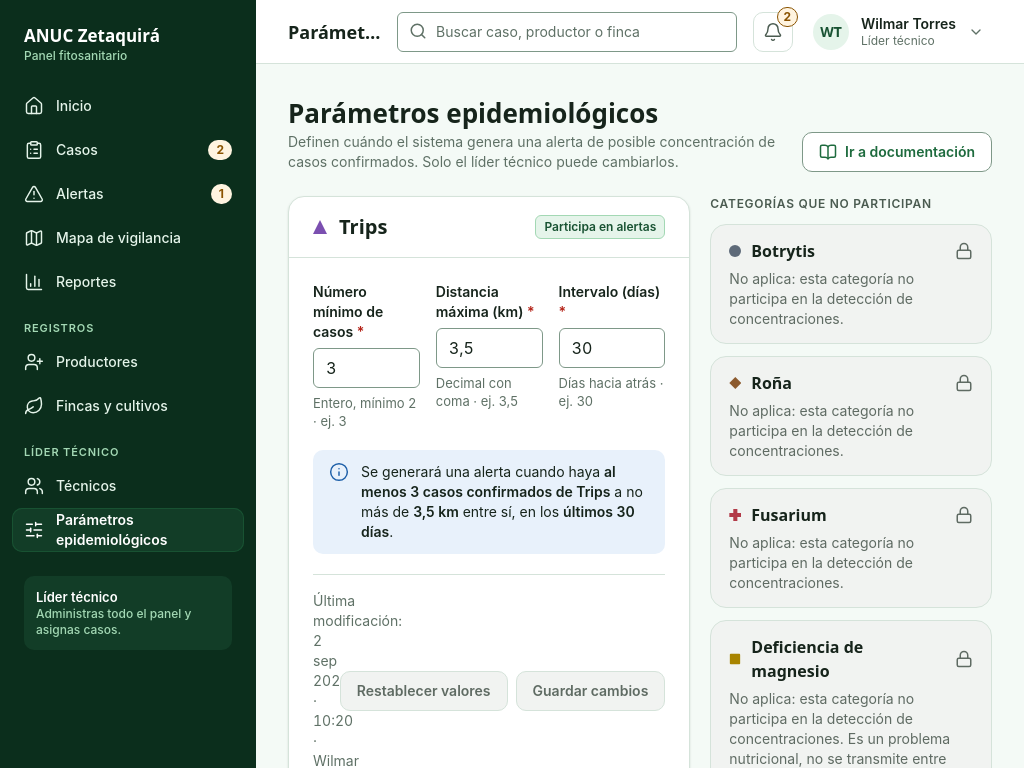
Scenario: Parámetros epidemiológicos › la frase cambia al escribir y restablecer vuelve a los valores vigentes
Replace the text in the field labelled "Distancia máxima (km) *" with "2,5" at coordinates (489, 348), box [436,328,543,368]
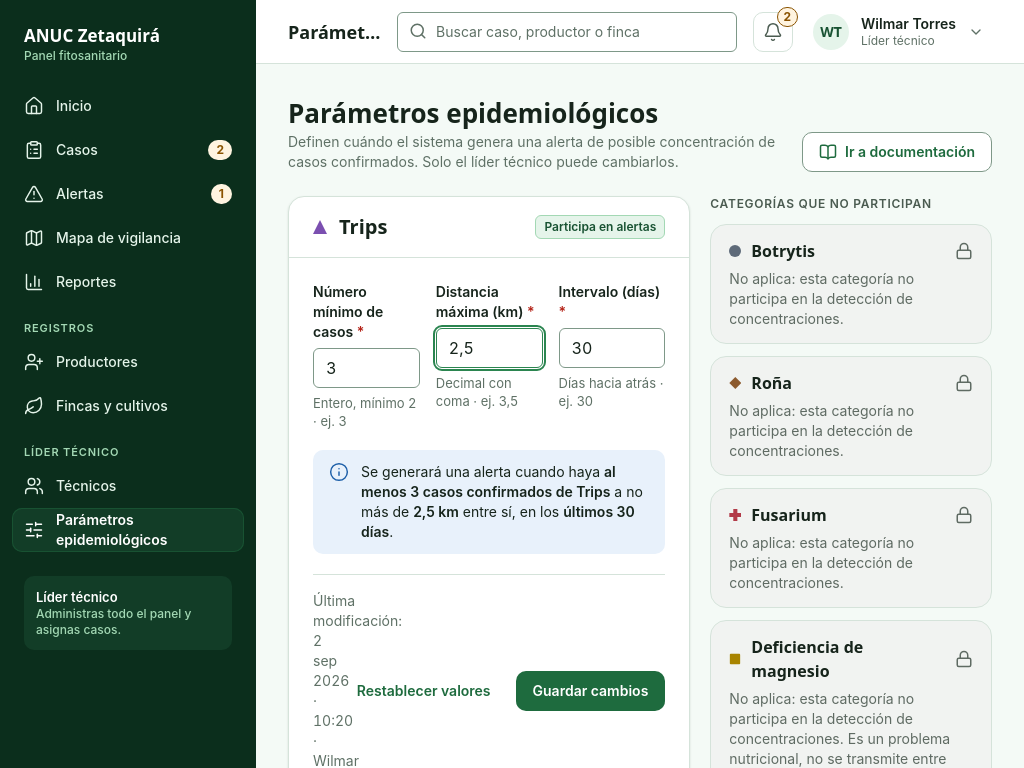
Clear the field labelled "Distancia máxima (km) *" at coordinates (489, 348), box [436,328,543,368]
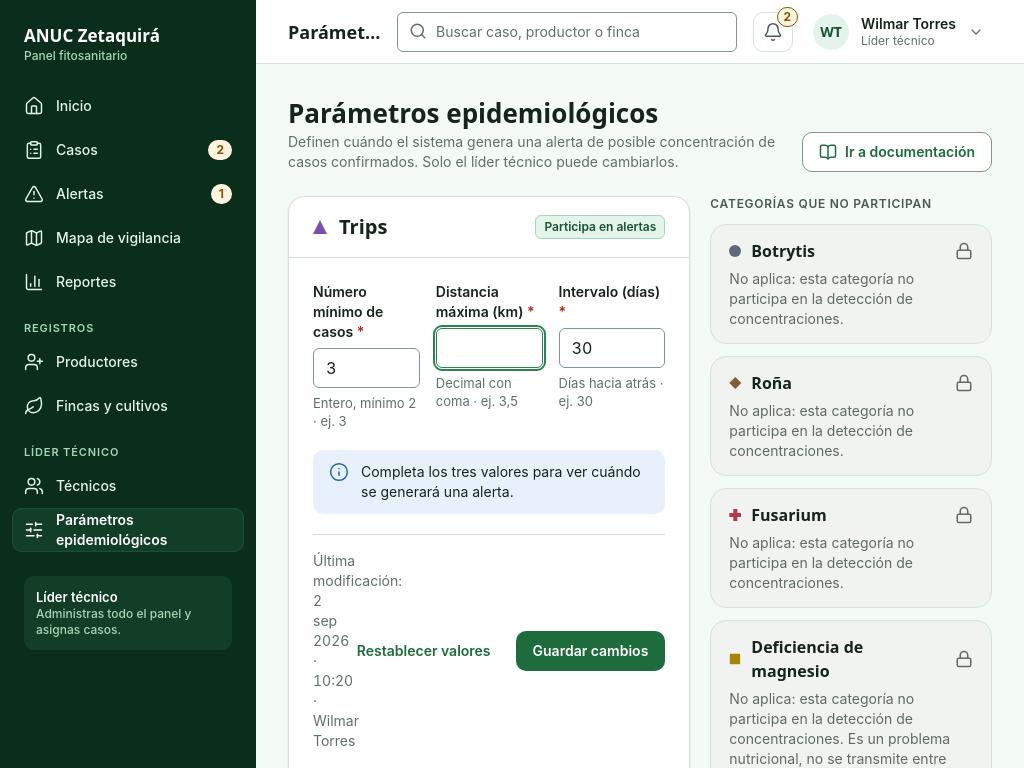
Expected: the element "Trips" shows "Completa los tres valores para ver cuándo se generará una alerta.", [361,463,641,500]
Click the button "Restablecer valores".
click(424, 651)  # box [340,631,508,671]
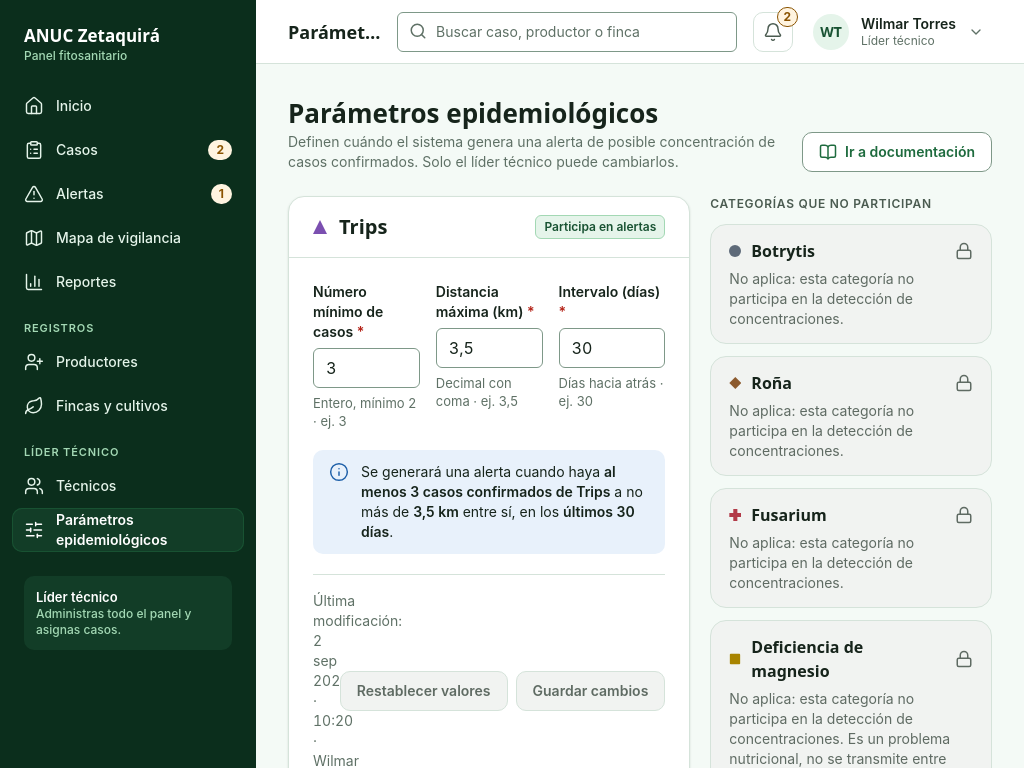
Expected: the field labelled "Distancia máxima (km) *" holds "3,5", [436,328,543,368]
